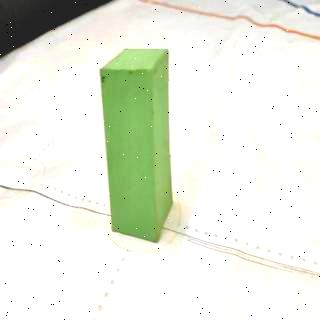greenbox: (100, 49, 176, 238)
